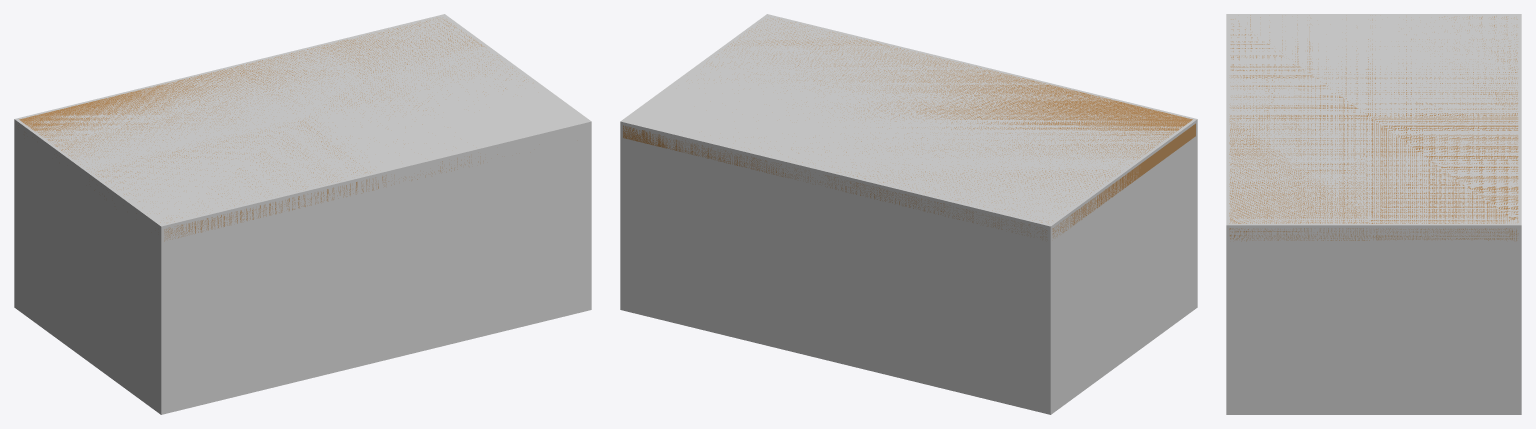
Rendered from coffee-table_commercial.glb.
3 renders of one model, left to right at view 1: azimuth 30°, elevation 25°; view 2: azimuth 150°, elevation 25°; view 3: azimuth 270°, elevation 25°, orthographic.
Visible parts, largest first — view 1: COL_coffee-table, MESH_Top; view 2: COL_coffee-table, MESH_Top; view 3: COL_coffee-table, MESH_Top.
Part boxes in pixels (x1,y1,x2,y2): COL_coffee-table: (14, 14, 591, 414); MESH_Top: (18, 18, 526, 241); COL_coffee-table: (620, 14, 1197, 414); MESH_Top: (623, 19, 1195, 239); COL_coffee-table: (1226, 14, 1521, 414); MESH_Top: (1229, 15, 1518, 241).
Bounding box in the file's own units: 1.1 × 0.46 × 0.65.
